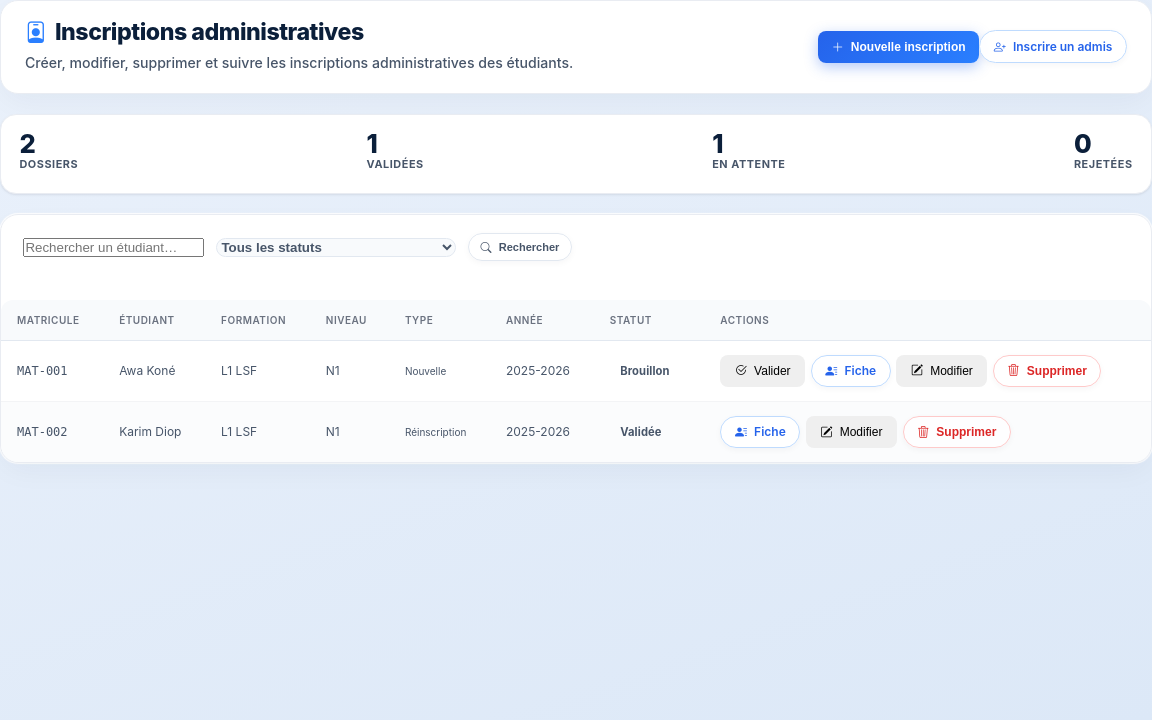
pages/scolarite/Inscriptions — validation en cascade › valide un brouillon en enchaînant EN_ATTENTE → A_VALIDER → VALIDEE puis recharge
The image size is (1152, 720).
Expected: the text "MAT-001" is shown, [17,364,68,378]
Click the button "Valider". click: (763, 371)
box: [720,354,805,387]
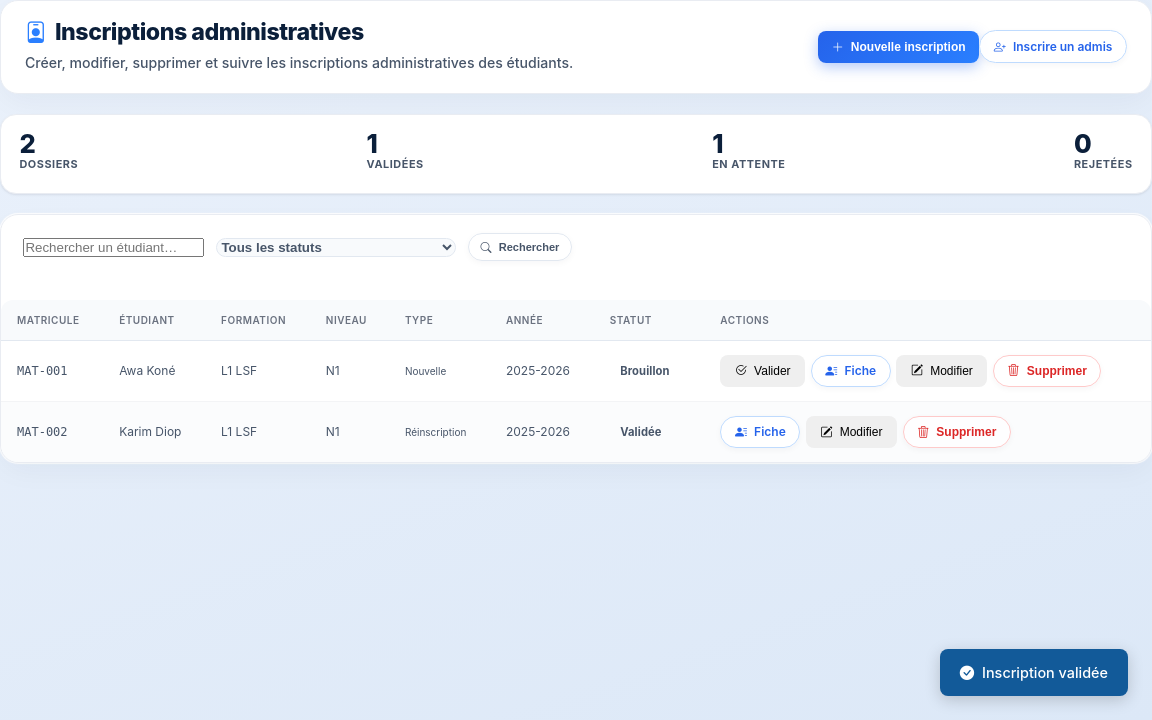
Result: the text "Inscription validée" is shown at [940,649,1128,696]
